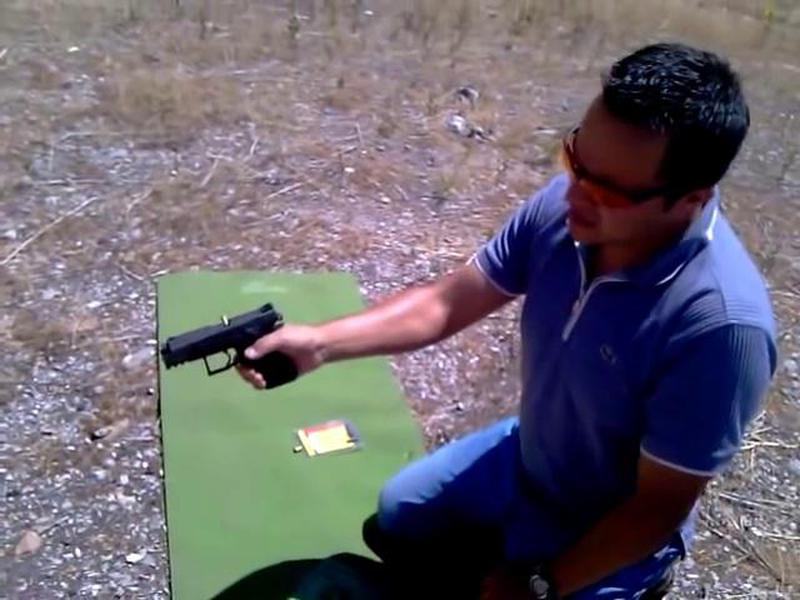Pistola: (167, 297, 315, 419)
